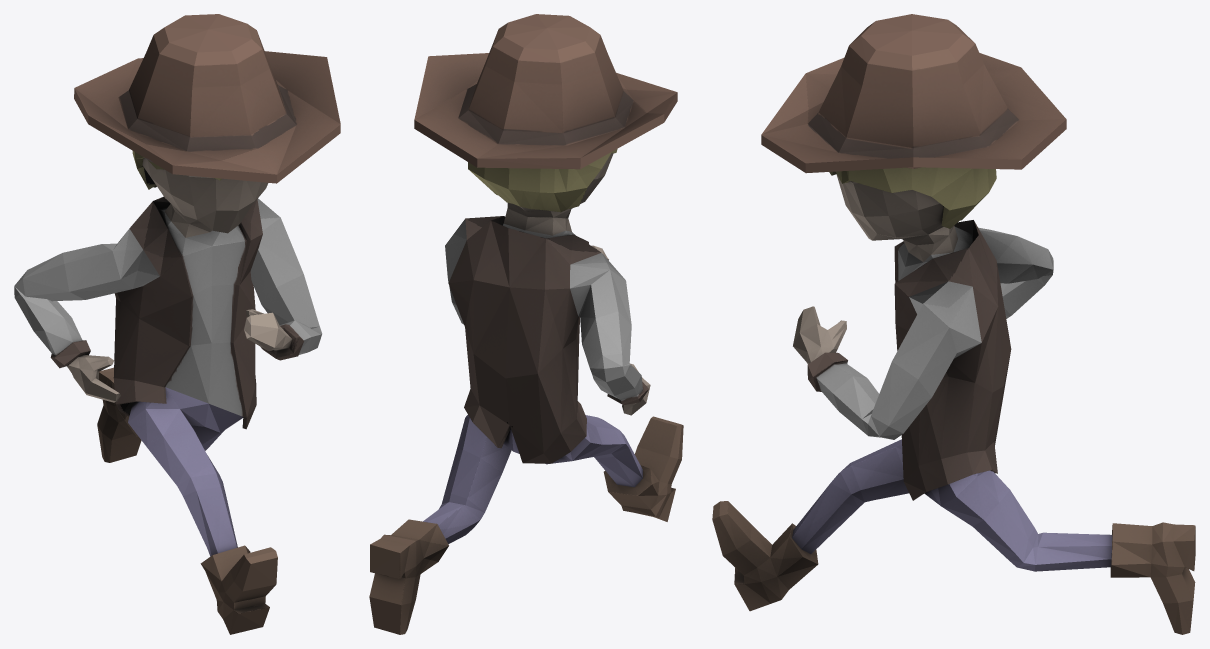
File: char_10.obj
3 renders of one model, left to right at view 1: azimuth 30°, elevation 25°; view 2: azimuth 150°, elevation 25°; view 3: azimuth 270°, elevation 25°, orthographic. The views are drawn at different scales.
Visible parts, largest first — view 1: Cube; view 2: Cube; view 3: Cube.
Boxes of the visible parts, x1,y1,x2,y2 form: Cube: (14,14,340,634); Cube: (369,14,683,634); Cube: (712,14,1195,634).
Bounding box in the file's own units: 3.73 × 7.54 × 5.57.
1 material, 1 textured.
